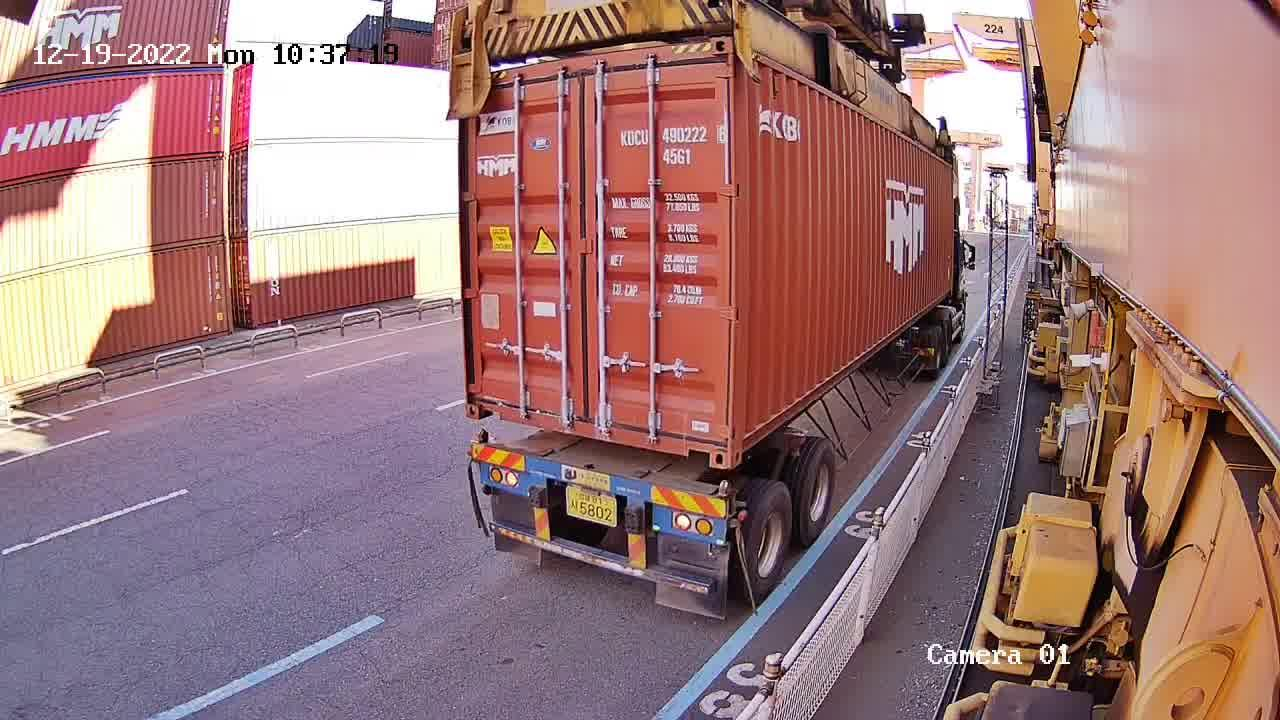Chassis: (476, 442, 731, 534)
Cone: (717, 479, 736, 519), (473, 430, 488, 459)
Hole_L: (728, 403, 759, 468), (465, 382, 500, 420)
Hole_R: (685, 420, 728, 467)
Tire: (746, 488, 795, 592), (797, 447, 837, 538)
